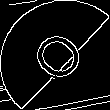O_SE: (20, 22, 90, 88)
